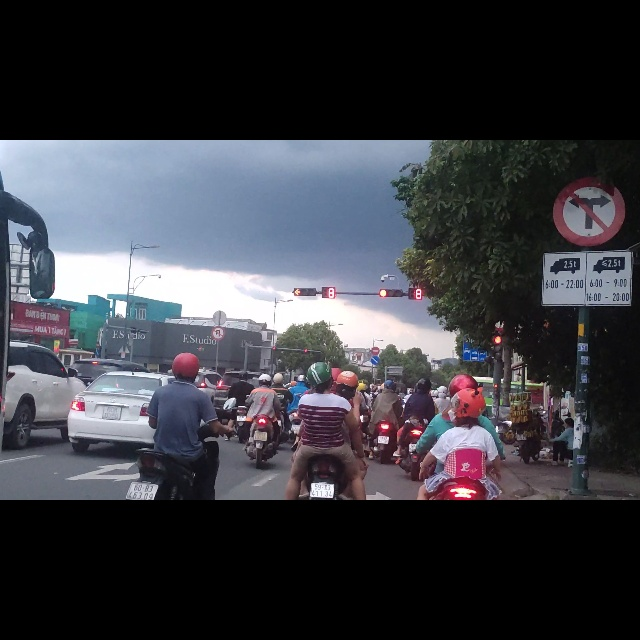bien_cam: (553, 65, 626, 190), (543, 196, 631, 296), (211, 329, 225, 356), (370, 383, 380, 399), (370, 367, 380, 382)
